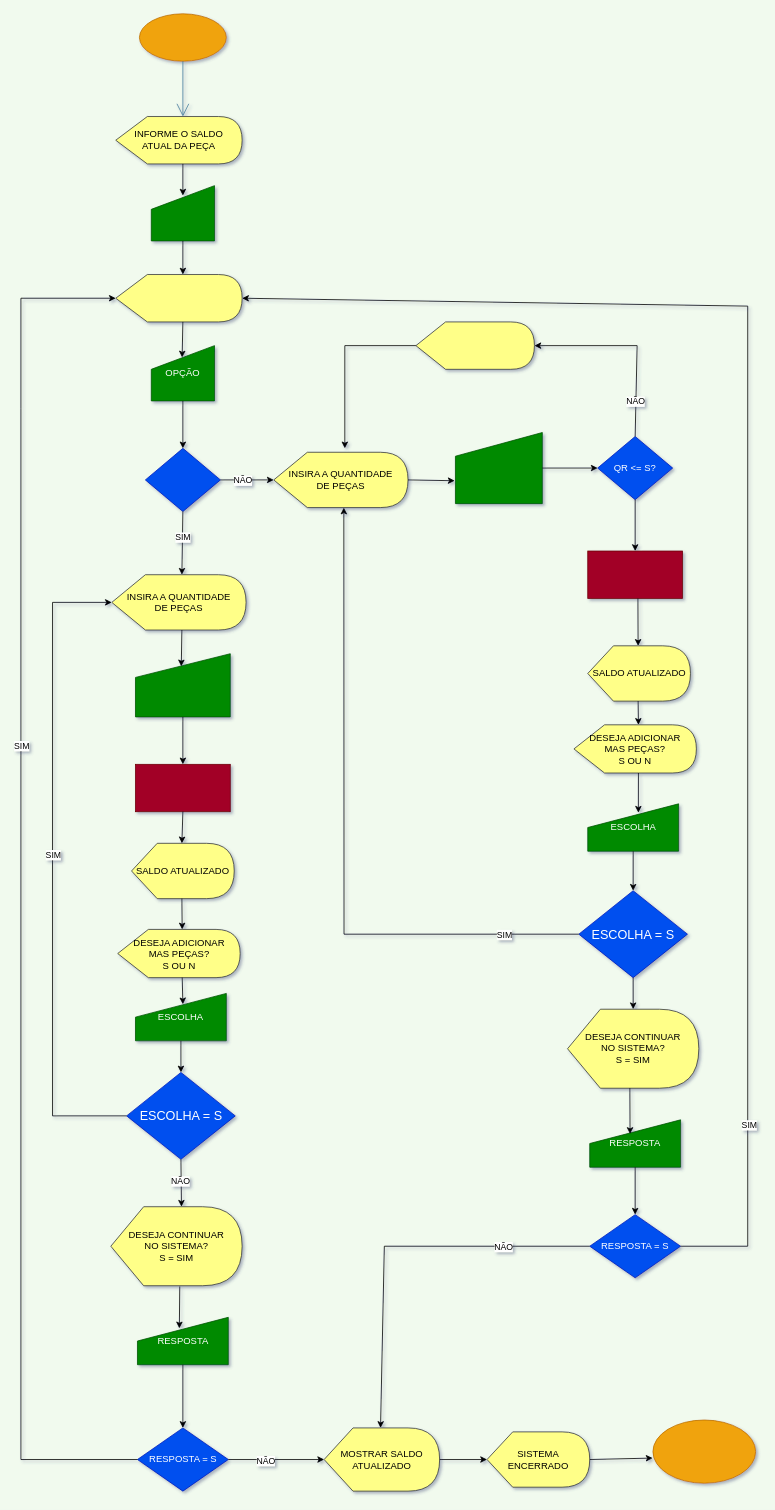
This 775x1510 diagram has some shape labels left out. Here are the shapes that lost their labels. From the top down, the centre of each, then its label:
At pixel 182 37: "INICIO".
At pixel 182 213: "SALDO(S)".
At pixel 178 298: "OPÇÃO: 1: PARA ENTRADA 2: PARA SAÍDA".
At pixel 474 345: "SALDO INSUFICIENTE".
At pixel 182 480: "OPÇÃO = 1".
At pixel 498 468: "QUANTIDADE REMOVIDA(QR)".
At pixel 635 574: "S - QR".
At pixel 182 685: "QUANTIDADE REQUERIDA(QR)".
At pixel 182 788: "S + QR".
At pixel 704 1451: "FIM".
